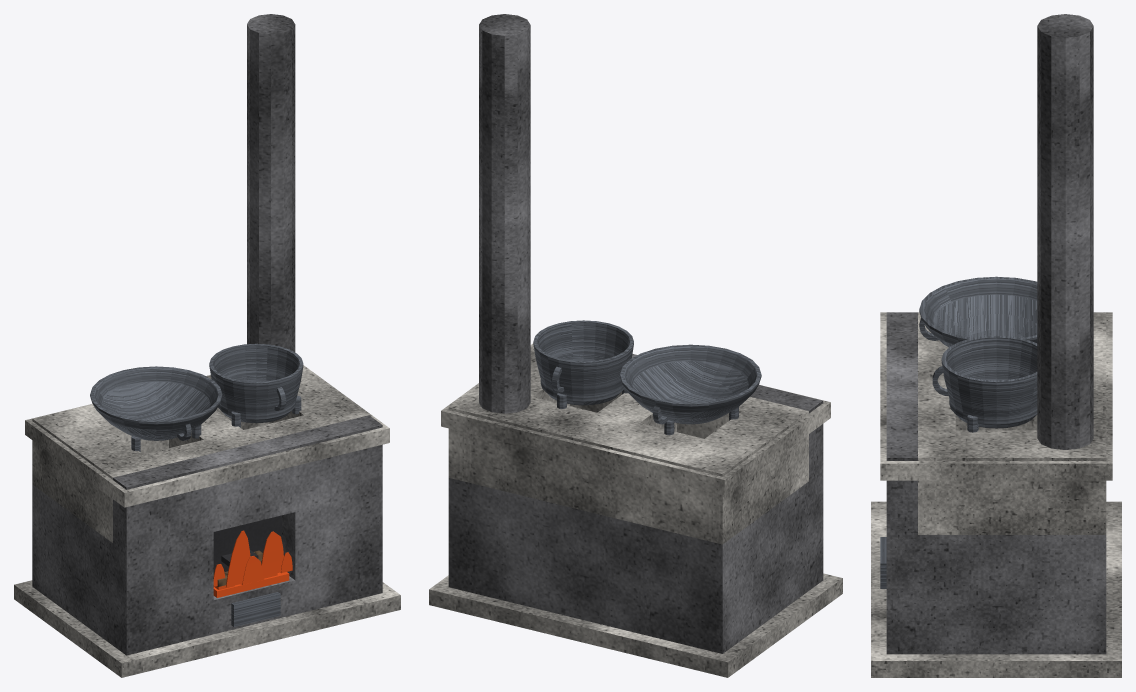
File: stove.fbx
3 views of the same model, side by side, from view 1: azimuth 30°, elevation 25°; view 2: azimuth 150°, elevation 25°; view 3: azimuth 270°, elevation 25° (orthographic). The views are drawn at different scales.
Parts seen in each view (by area): view 1: stove; view 2: stove; view 3: stove.
Boxes of the visible parts, left/top/right/bottom form: stove: left=14, top=14, right=400, bottom=677; stove: left=429, top=14, right=842, bottom=677; stove: left=871, top=14, right=1121, bottom=677.
Size of the model in its own units: 120 by 220 by 80.
